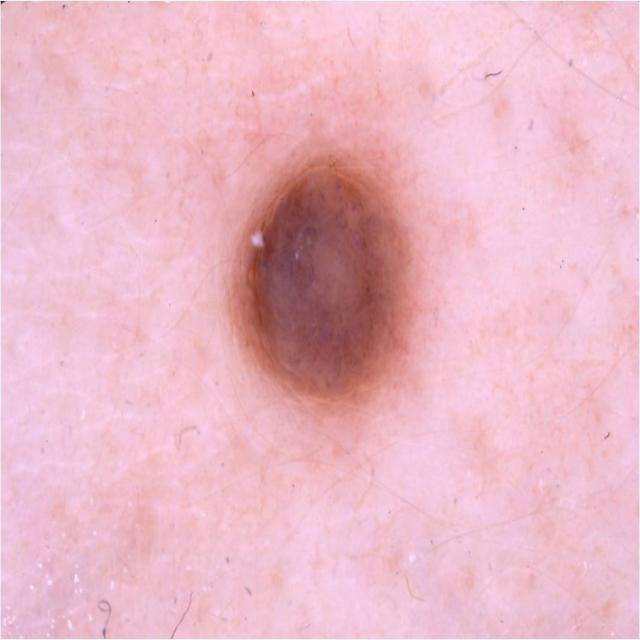Benign: (218, 150, 426, 428)
